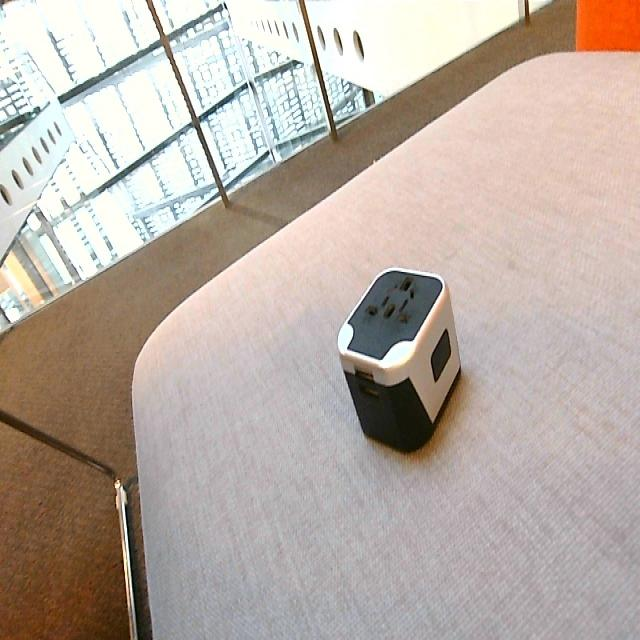adapter: (336, 264, 461, 453)
